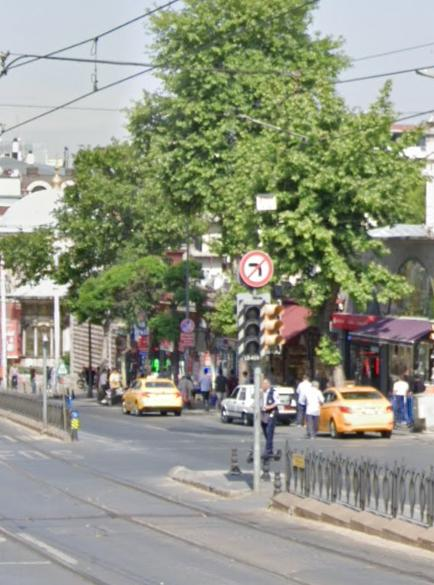leftturnsareforbidden: (241, 251, 274, 287)
